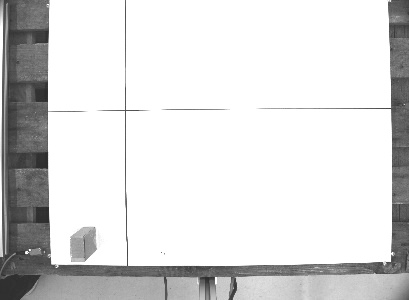b1: (67, 225, 99, 263)
